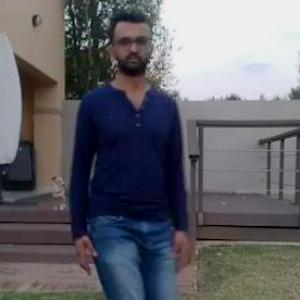follow: (99, 47, 198, 299)
